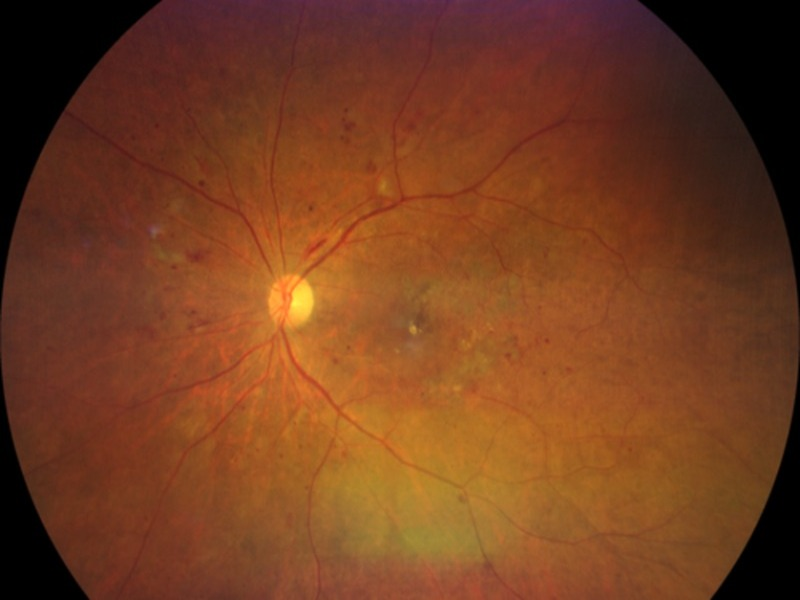Optic Cup: (291, 281, 317, 321)
Optic Disc: (269, 272, 295, 329)
